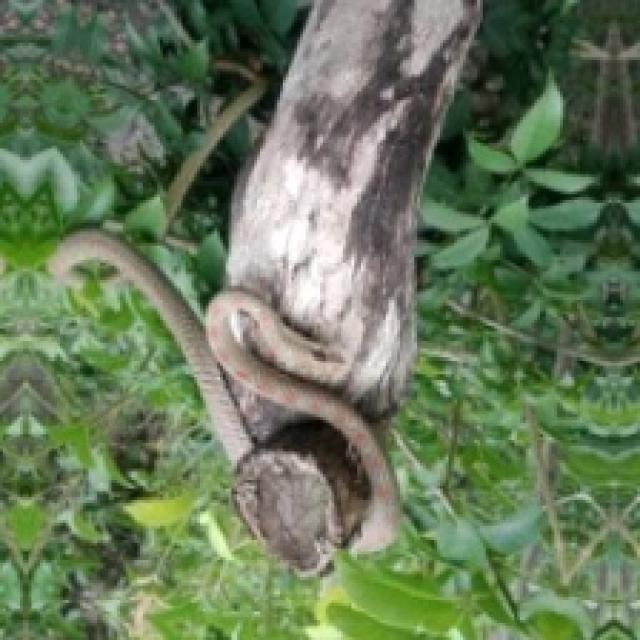paradise tree snake: (49, 229, 397, 571)
